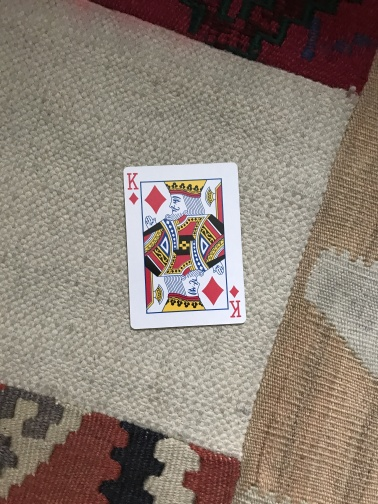king: (122, 162, 247, 330)
